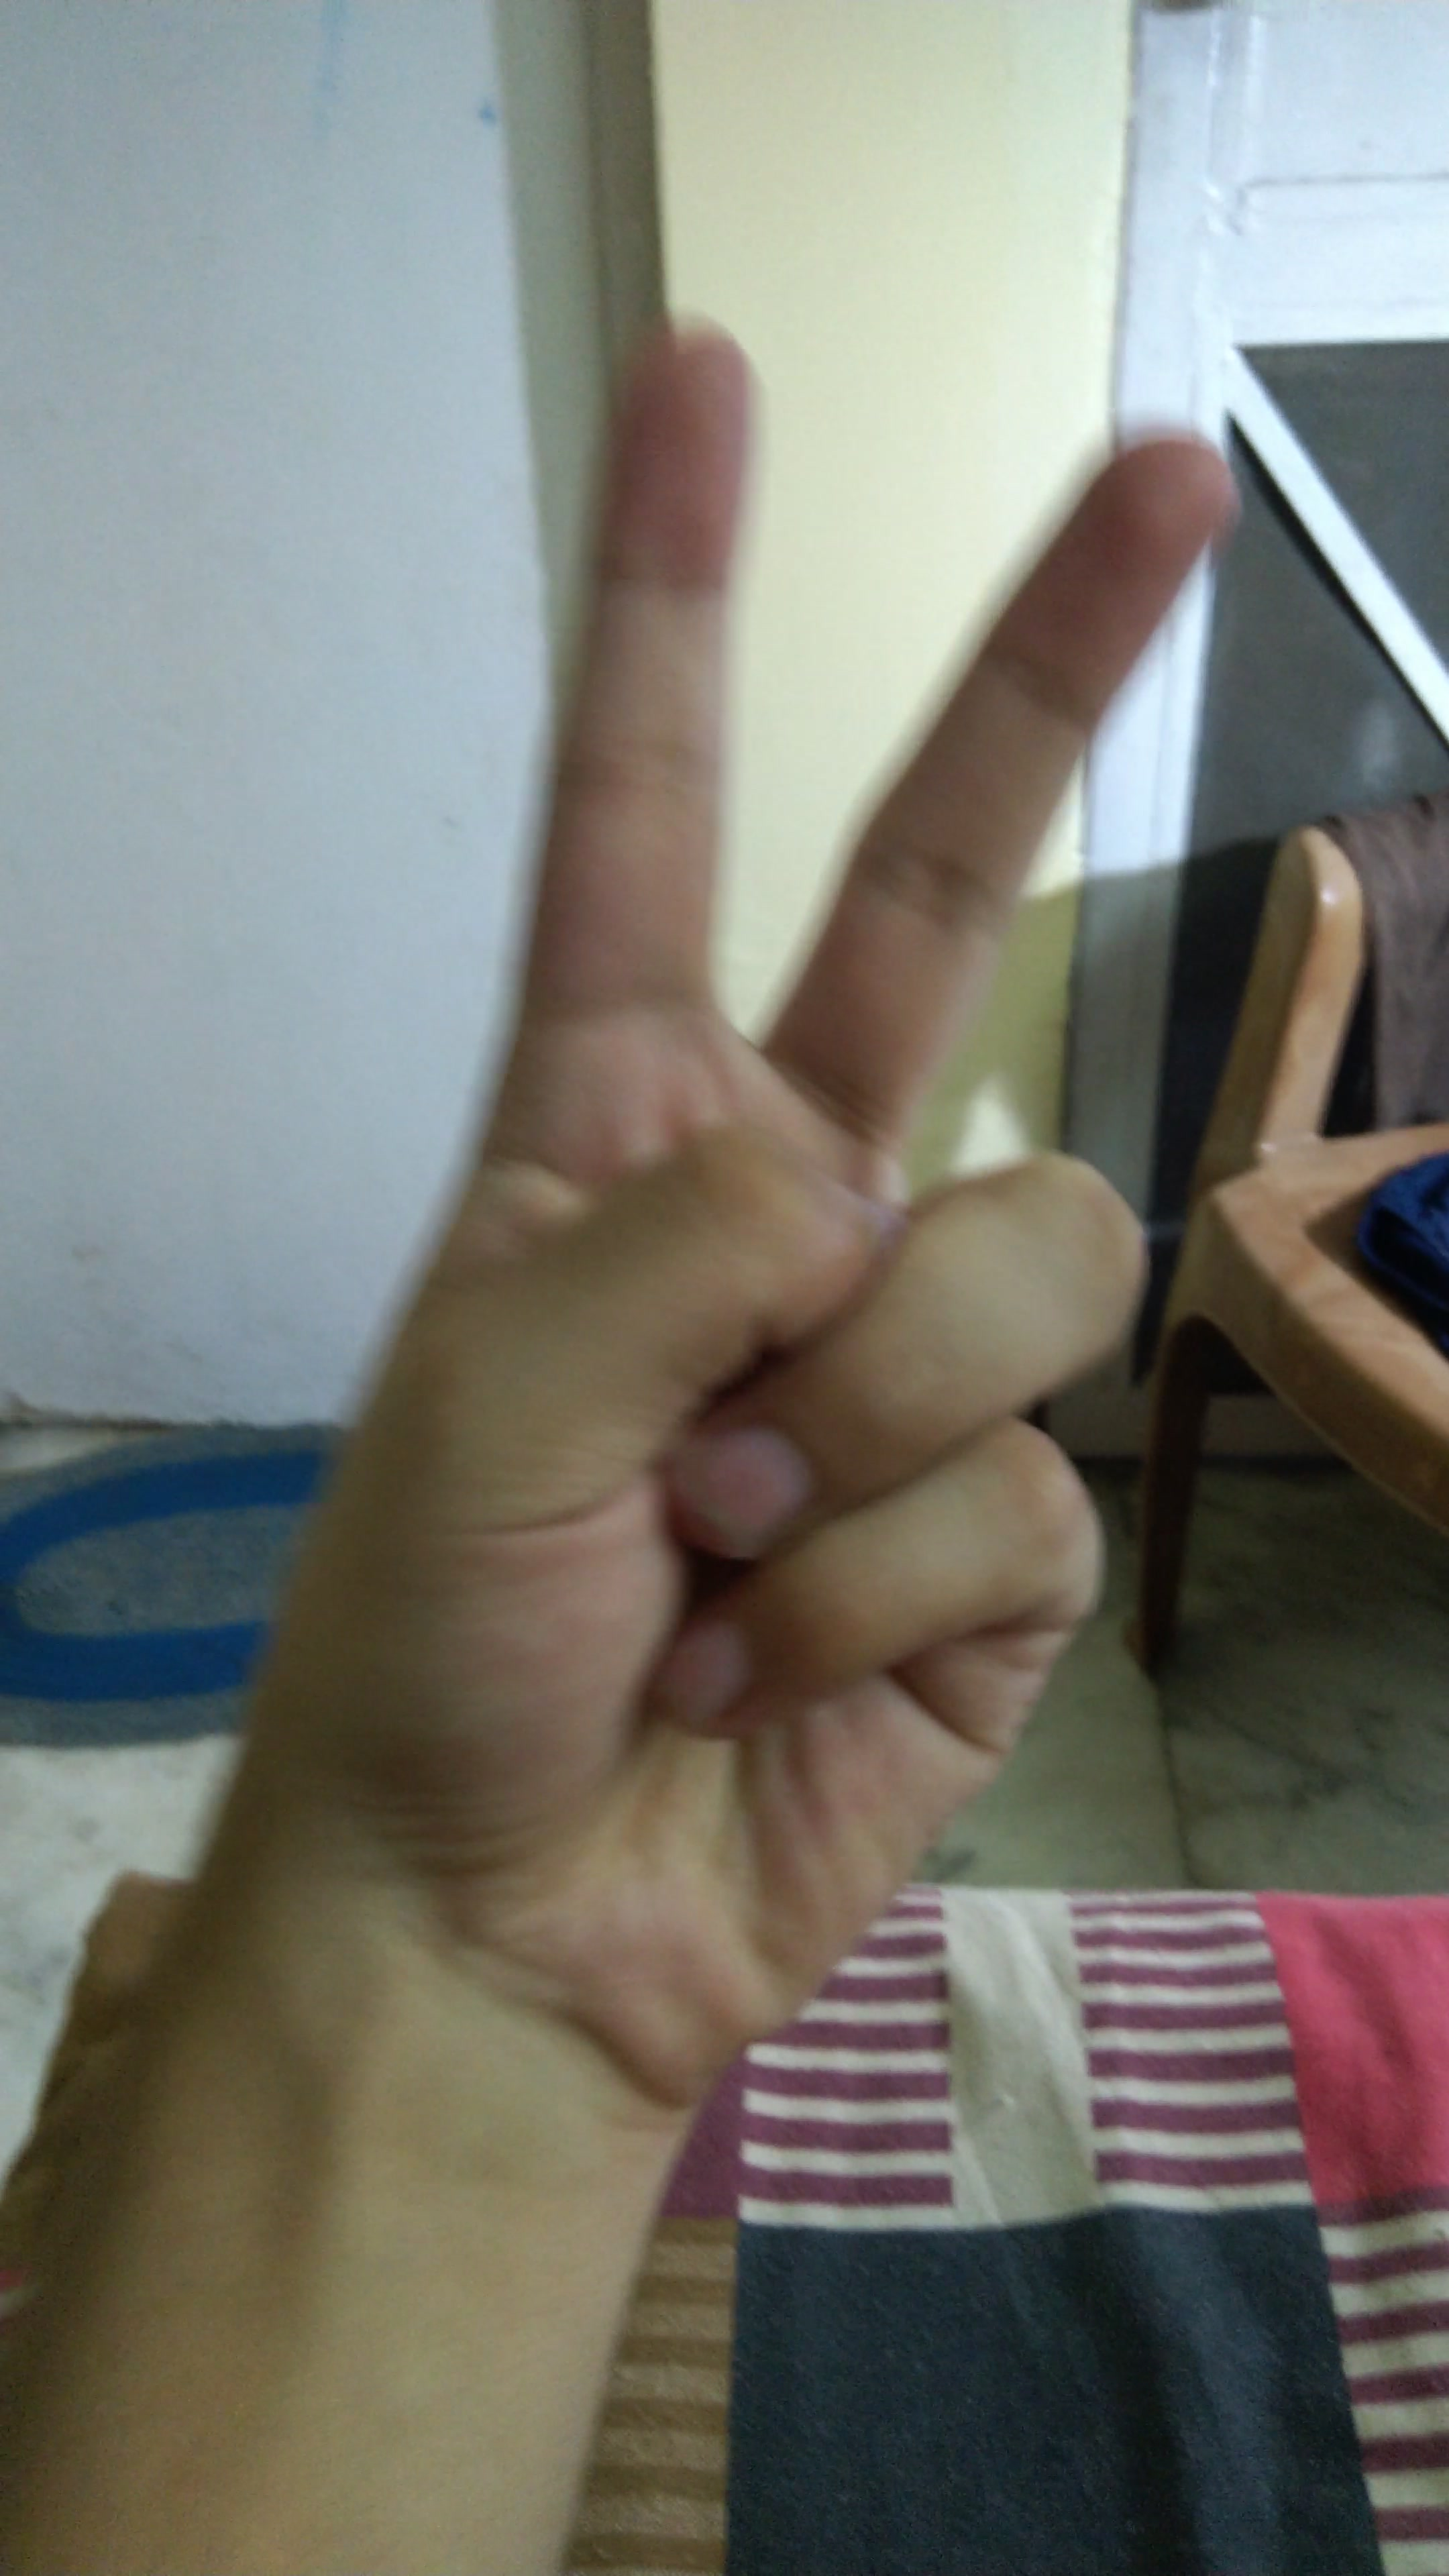hand: (108, 301, 1251, 2166)
